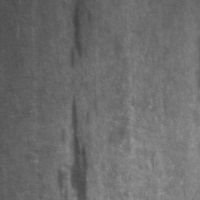inclusion: (61, 91, 94, 199), (63, 1, 88, 71)
